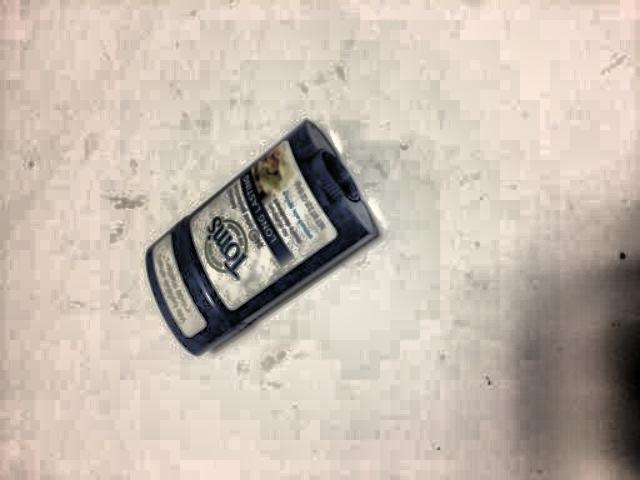Plastic: (135, 106, 389, 368)
